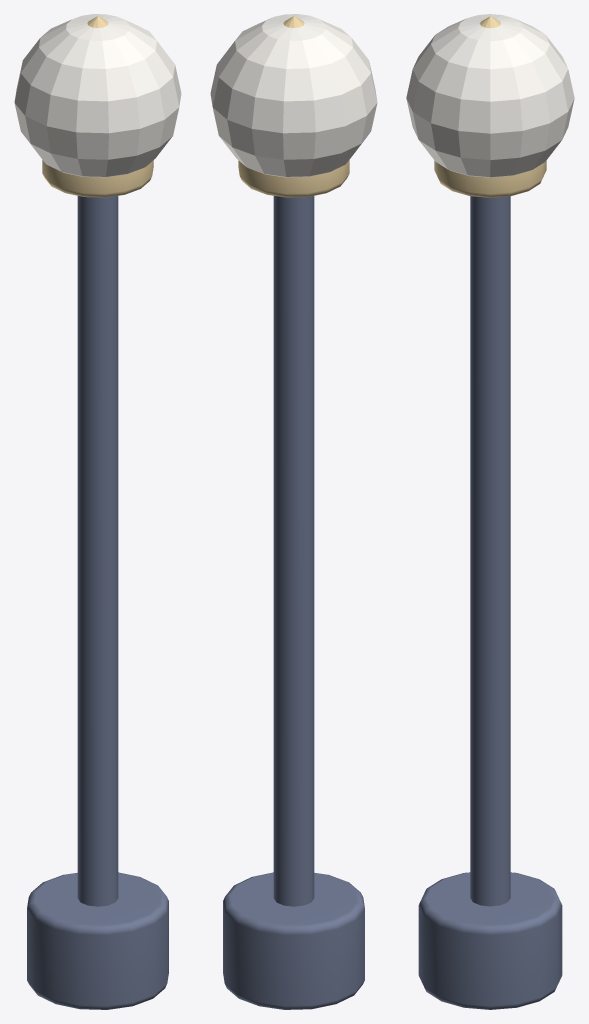
File: Lamp.fbx
3 renders of one model, left to right at view 1: azimuth 30°, elevation 25°; view 2: azimuth 150°, elevation 25°; view 3: azimuth 270°, elevation 25°, orthographic.
Parts seen in each view (by area): view 1: Post, Globe, Base, GoldCollar; view 2: Post, Globe, Base, GoldCollar; view 3: Post, Globe, Base, GoldCollar.
Boxes of the visible parts, left/top/right/bottom form: Post: left=77, top=196, right=118, bottom=906; Globe: left=14, top=14, right=181, bottom=177; Base: left=27, top=872, right=168, bottom=1009; GoldCollar: left=42, top=160, right=153, bottom=197; Post: left=273, top=196, right=314, bottom=906; Globe: left=210, top=14, right=377, bottom=177; Base: left=223, top=872, right=364, bottom=1009; GoldCollar: left=238, top=160, right=349, bottom=197; Post: left=470, top=196, right=510, bottom=906; Globe: left=406, top=14, right=574, bottom=177; Base: left=418, top=872, right=562, bottom=1009; GoldCollar: left=434, top=160, right=546, bottom=197.
Bounding box in the file's own units: 54 × 342 × 54.
